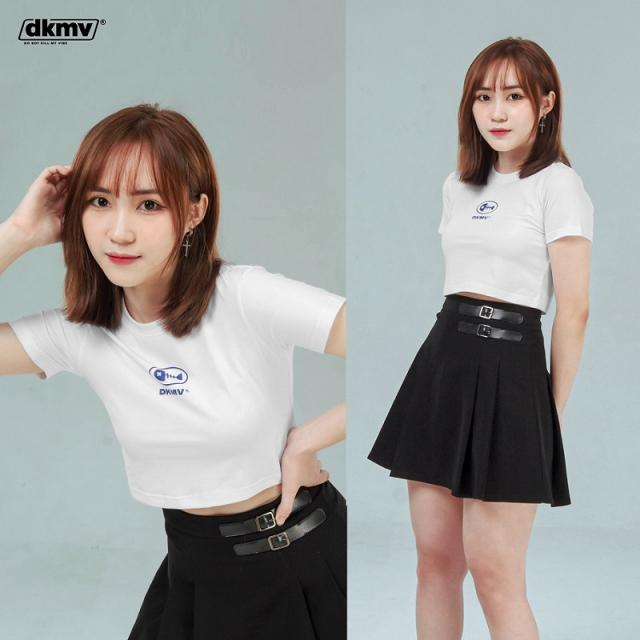clothes: (35, 258, 348, 640), (393, 157, 596, 513)
